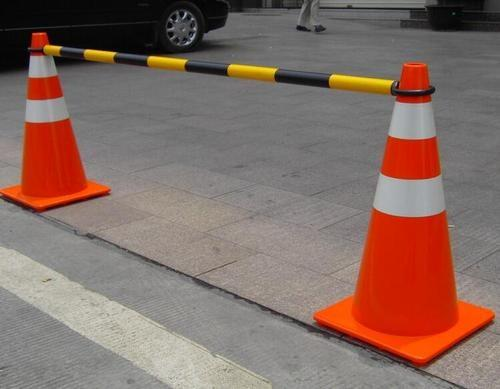cone_barrel: (340, 65, 467, 339), (8, 32, 93, 200)
